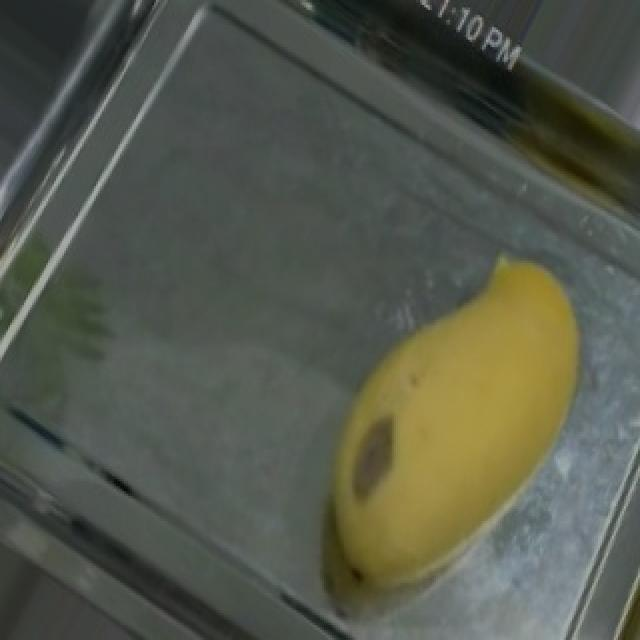fruit: (282, 213, 640, 598)
